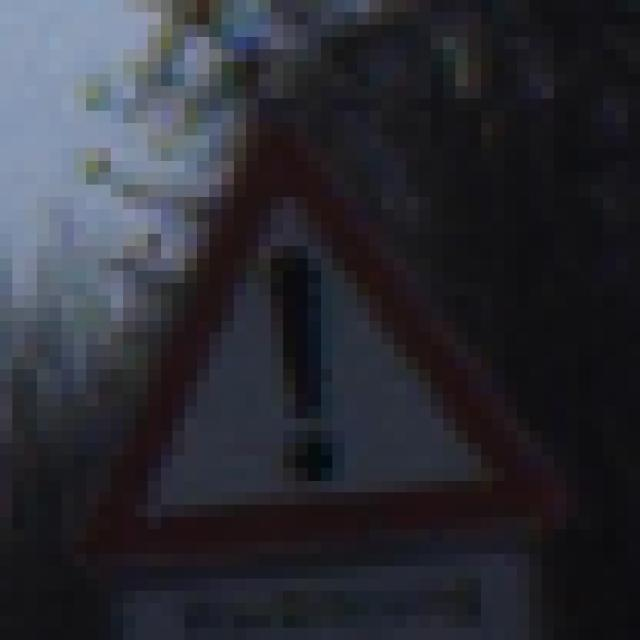Attention Please-: (25, 123, 628, 566)
